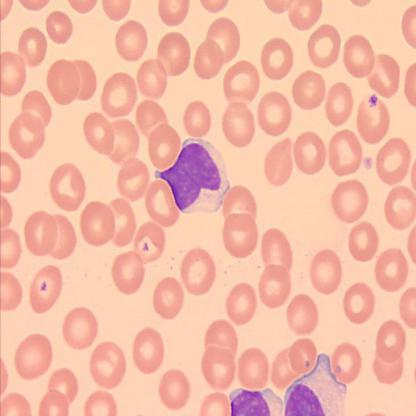Atypical lymphocyte: (154, 136, 231, 214)
